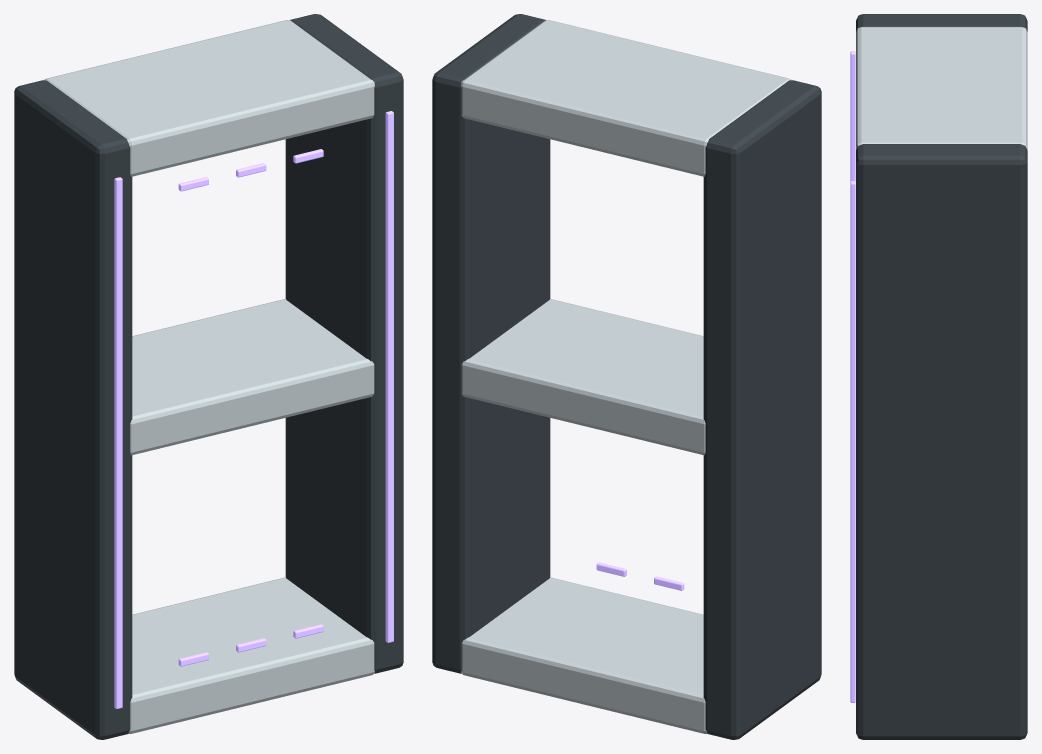
File: ConsumerEDC.glb
3 views of the same model, side by side, from view 1: azimuth 30°, elevation 25°; view 2: azimuth 150°, elevation 25°; view 3: azimuth 270°, elevation 25° (orthographic).
Visible parts, largest first — view 1: ConsumerEDC_Mesh; view 2: ConsumerEDC_Mesh; view 3: ConsumerEDC_Mesh.
Boxes of the visible parts, x1,y1,x2,y2 form: ConsumerEDC_Mesh: [14, 14, 403, 739]; ConsumerEDC_Mesh: [432, 14, 821, 739]; ConsumerEDC_Mesh: [850, 14, 1027, 739].
Bounding box in the file's own units: 1.18 × 2.18 × 0.599.
